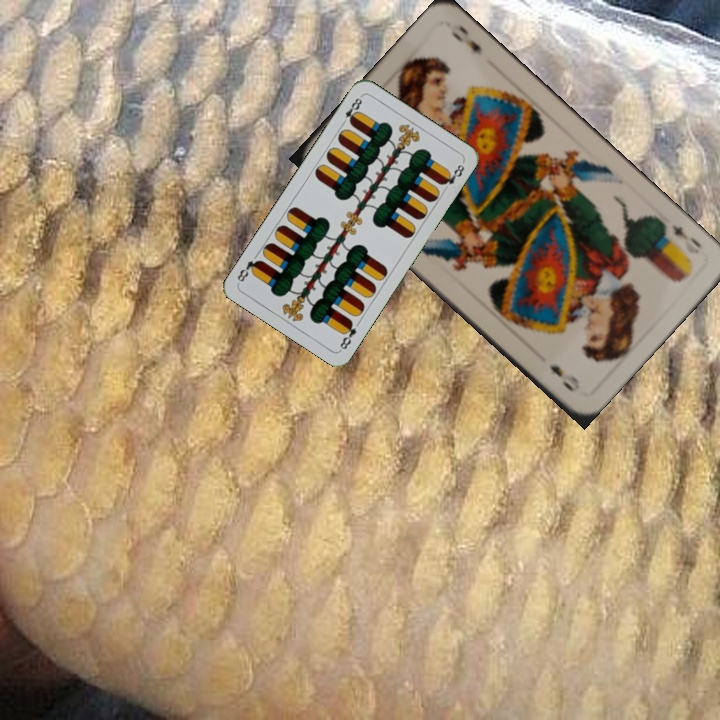E8: (337, 92, 365, 128), (336, 316, 359, 353)
EO: (659, 218, 704, 251)
